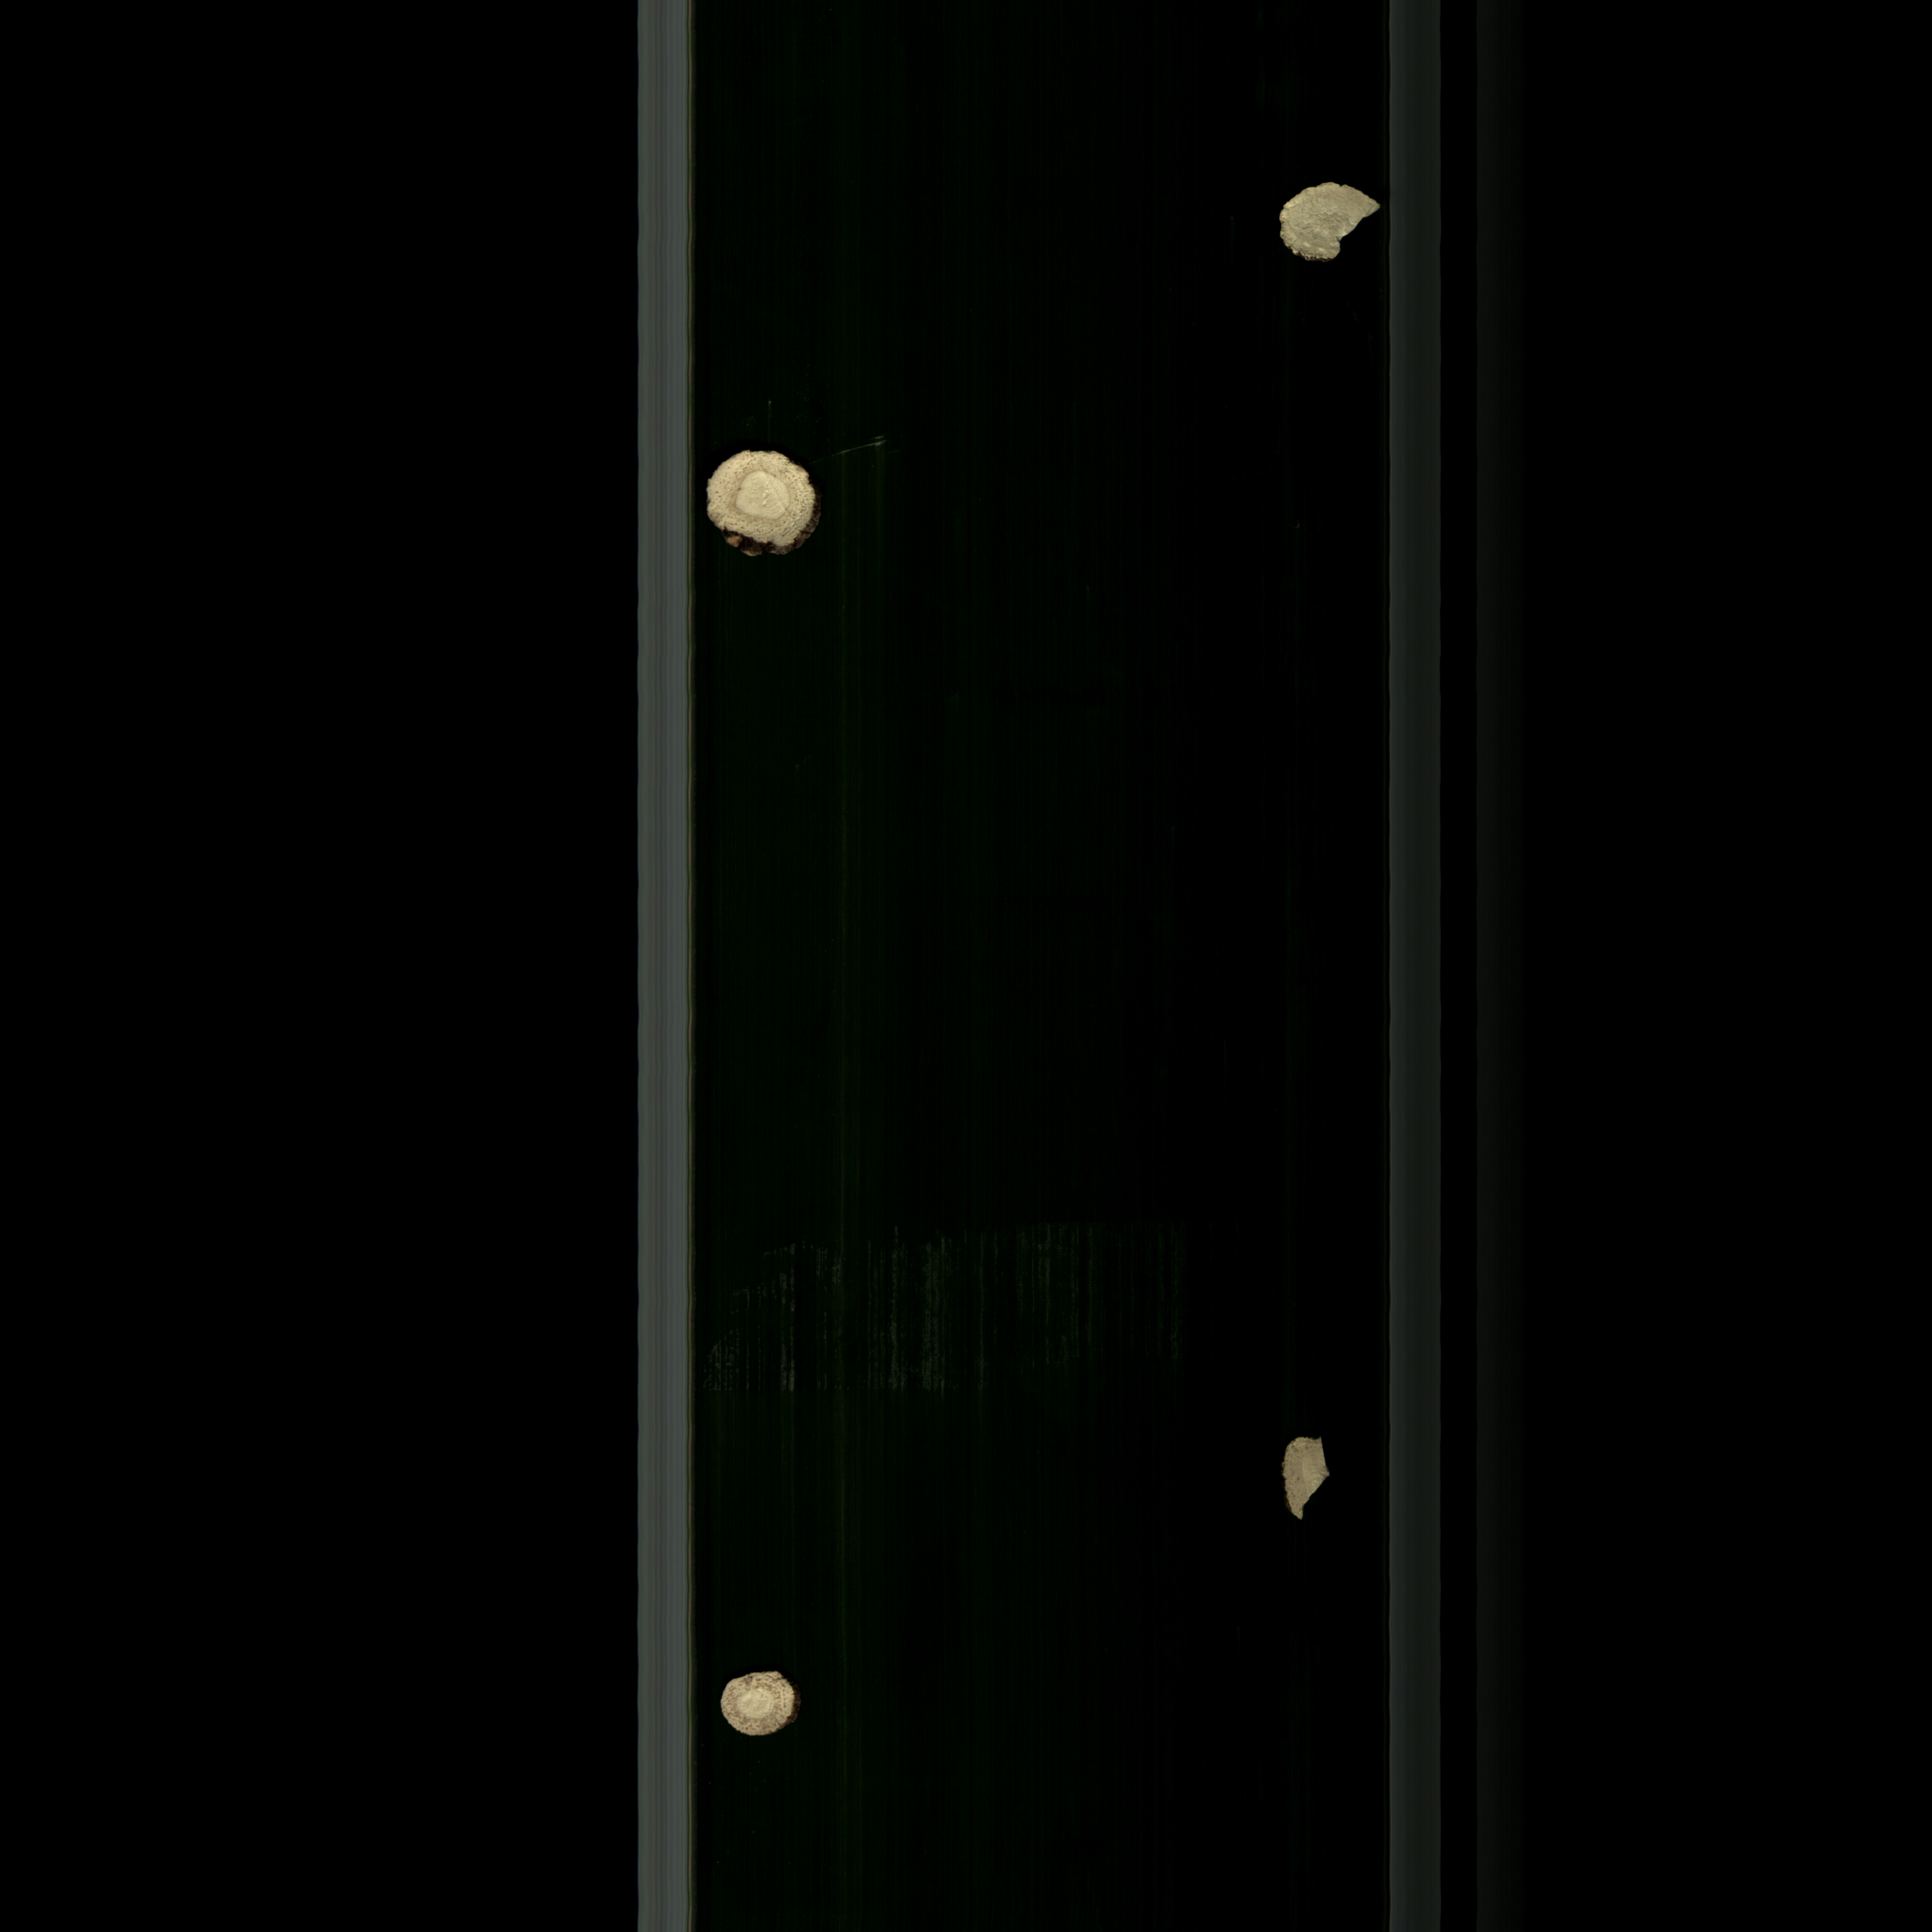debris: (1263, 172, 1387, 278), (1277, 1422, 1352, 1541)
